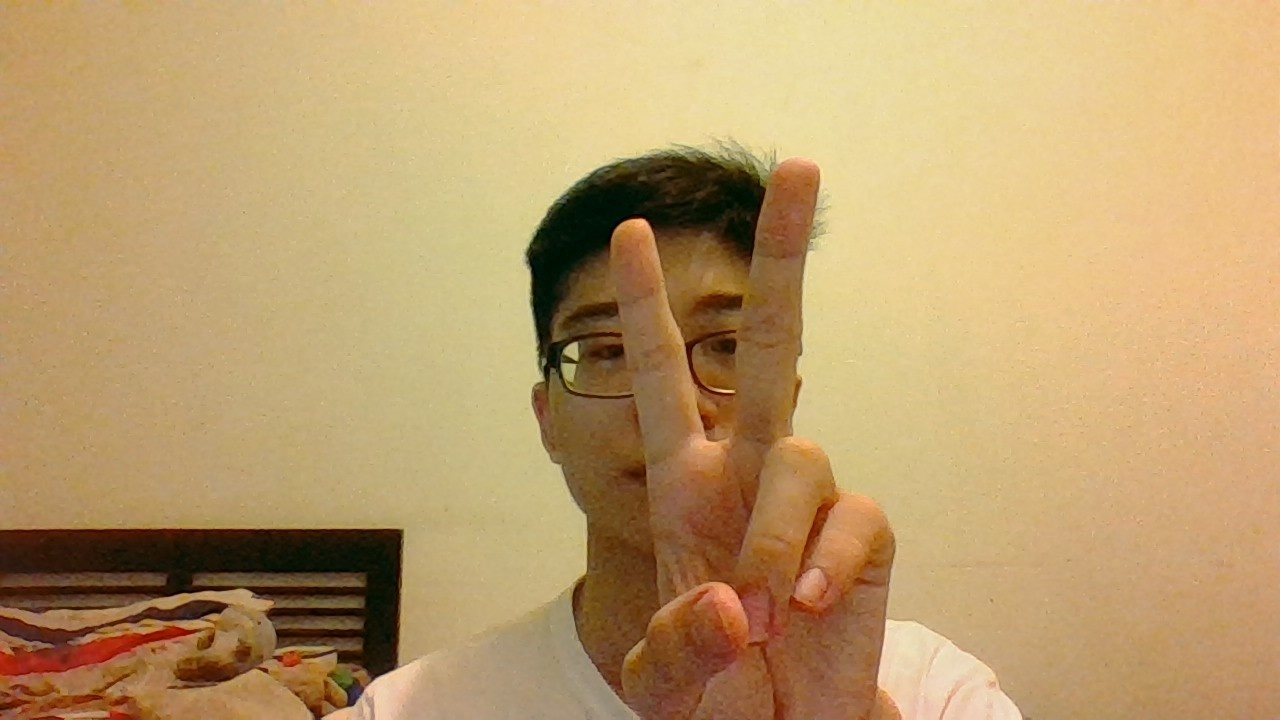Thanks: (607, 157, 895, 720)
